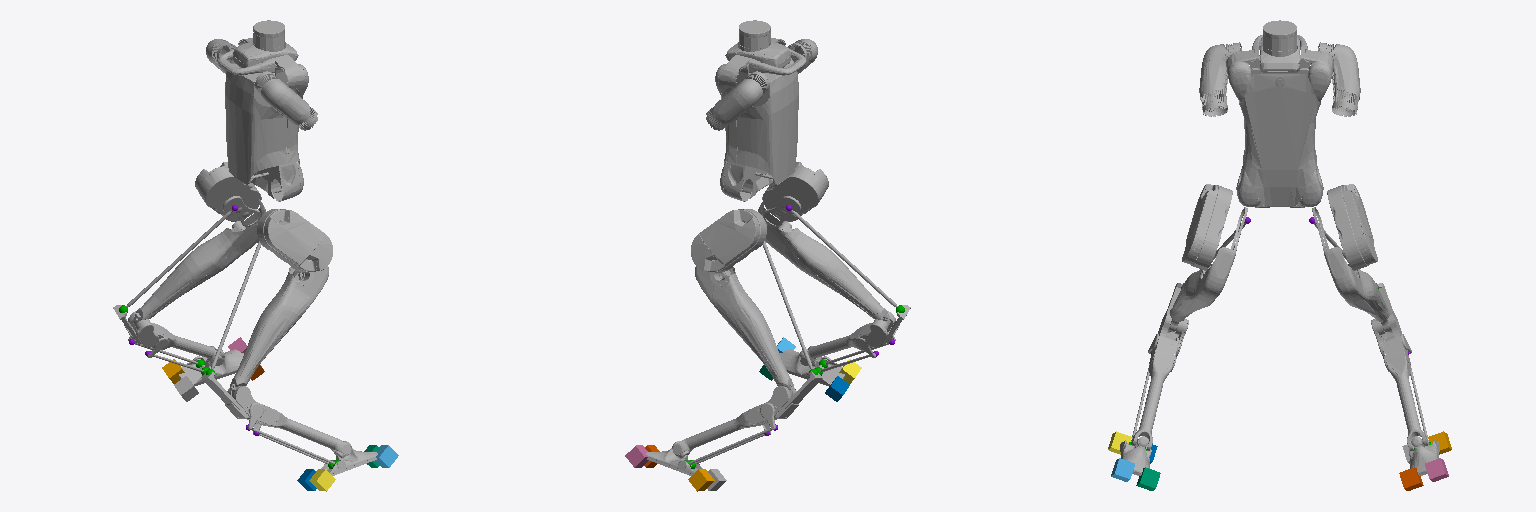
--- Facts derived from the render (not from the file) ---
Views: 3 orthographic renders of the robot side by side, from view 1: azimuth 30°, elevation 25°; view 2: azimuth 150°, elevation 25°; view 3: azimuth 270°, elevation 25°.
Robot: digit — 61 links, 60 joints (26 revolute, 34 fixed); root link torso; default pose: every joint at zero.
Links seen in each view (by area): view 1: torso, left_shin, right_shin, right_hip_pitch, left_hip_pitch, right_tarsus, right_shoulder_pitch, left_tarsus, right_waist_cap, left_toe_roll, right_shoulder_cap, right_toe_roll (+1 smaller); view 2: torso, right_shin, left_shin, left_hip_pitch, right_hip_pitch, left_tarsus, left_shoulder_pitch, right_tarsus, left_waist_cap, right_toe_roll, left_shoulder_cap, left_toe_roll (+1 smaller); view 3: torso, left_hip_pitch, right_hip_pitch, left_tarsus, right_tarsus, left_shin, right_shin, left_shoulder_pitch, right_shoulder_pitch, right_shoulder_cap, left_shoulder_cap, left_toe_roll (+3 smaller).
Link boxes in pixels (left/top/right/bottom): torso: left=217, top=20, right=302, bottom=193; left_shin: left=133, top=199, right=265, bottom=326; right_shin: left=230, top=266, right=328, bottom=396; right_hip_pitch: left=257, top=209, right=332, bottom=271; left_hip_pitch: left=195, top=162, right=261, bottom=226; right_tarsus: left=225, top=386, right=350, bottom=454; right_shoulder_pitch: left=254, top=71, right=317, bottom=130; left_tarsus: left=124, top=311, right=223, bottom=365; right_waist_cap: left=268, top=157, right=303, bottom=201; left_toe_roll: left=179, top=349, right=243, bottom=385; right_shoulder_cap: left=275, top=57, right=308, bottom=97; right_toe_roll: left=321, top=441, right=377, bottom=475; torso: left=721, top=20, right=806, bottom=193; right_shin: left=758, top=199, right=890, bottom=326; left_shin: left=695, top=266, right=793, bottom=396; left_hip_pitch: left=691, top=209, right=766, bottom=271; right_hip_pitch: left=762, top=162, right=828, bottom=226; left_tarsus: left=673, top=386, right=798, bottom=454; left_shoulder_pitch: left=706, top=71, right=769, bottom=130; right_tarsus: left=800, top=311, right=899, bottom=365; left_waist_cap: left=720, top=157, right=755, bottom=201; right_toe_roll: left=780, top=349, right=844, bottom=385; left_shoulder_cap: left=715, top=57, right=748, bottom=97; left_toe_roll: left=646, top=441, right=702, bottom=475; torso: left=1239, top=20, right=1320, bottom=207; left_hip_pitch: left=1312, top=184, right=1377, bottom=270; right_hip_pitch: left=1182, top=184, right=1247, bottom=270; left_tarsus: left=1371, top=312, right=1428, bottom=450; right_tarsus: left=1131, top=312, right=1188, bottom=450; left_shin: left=1324, top=247, right=1392, bottom=332; right_shin: left=1167, top=247, right=1235, bottom=332; left_shoulder_pitch: left=1318, top=42, right=1360, bottom=116; right_shoulder_pitch: left=1199, top=42, right=1241, bottom=116; right_shoulder_cap: left=1226, top=50, right=1254, bottom=102; left_shoulder_cap: left=1305, top=50, right=1333, bottom=102; left_toe_roll: left=1408, top=436, right=1439, bottom=475.
Bounding box of the posed robot: 0.5917 × 1.01 × 1.44 m (x, y, z).
Meshes: 19 distinct files referenced, 27 mesh visuals loaded (12 binary STL); not drawn: 14 (reference not matched to a file when rendering).

URDF robot description (digit):
<?xml version="1.0" encoding="utf-8"?>
<robot name="digit">

    <link name="torso">
        <inertial>
            <origin rpy="0 0 0" xyz="0.001637 0.0002 0.259547"/>
            <mass value="15.028392"/>
            <inertia ixx="0.376284" ixy="-8.8e-05" ixz="0.008378" iyy="0.342655" iyz="6.7e-05" izz="0.100648"/>
        </inertial>
        <visual>
            <origin rpy="0 0 0" xyz="0 0 0"/>
            <geometry>
                <mesh filename="package://digit_description//meshes_new/torso.stl"/>
            </geometry>

            <material name="LightGrey">
                <color rgba="0.7 0.7 0.7 1.0"/>
            </material>
        </visual>
        <collision>
            <origin rpy="0 0 0" xyz="0 0 0"/>
            <geometry>
                <mesh filename="package://digit_description//meshes_new/torso.stl"/>
            </geometry>
        </collision>
    </link>

    <joint name="left_waist_cap_joint" type="fixed">
        <origin rpy="-1.57079632679 1.57 1.57079632679" xyz="-0.001 0.09 0.0"/>
        <axis xyz="0 0 1"/>
        <parent link="torso"/>
        <child link="left_waist_cap"/>
        <limit effort="1.4" lower="-1.309" upper="1.309" velocity="12.5"/>
    </joint>

    <link name="left_waist_cap">
        <inertial>
            <origin rpy="0 0 0" xyz="9e-06 0.003158 0.023405"/>
            <mass value="0.535396"/>
            <inertia ixx="0.000704" ixy="-1.4e-05" ixz="1.2e-05" iyy="0.00075" iyz="-3.5e-05" izz="0.000298"/>
        </inertial>
        <visual>
            <origin rpy="0 0 0" xyz="0 0 0"/>
            <geometry>
                <mesh filename="package://digit_description//meshes_new/shoulder-roll-housing.stl" scale="1 -1 1"/>
            </geometry>
            <material name="LightGrey">
                <color rgba="0.7 0.7 0.7 1.0"/>
            </material>
        </visual>
        <collision>
            <origin rpy="0 0 0" xyz="0 0 0"/>
            <geometry>
                <mesh filename="package://digit_description//meshes_new/shoulder-roll-housing.stl" scale="1 -1 1"/>
            </geometry>
        </collision>
    </link>

    <joint name="left_hip_roll_joint" type="revolute">
        <origin rpy="1.57079632679 -1.1955506 -1.57079632679" xyz="-0.001 0.091 0"/>
        <axis xyz="0 0 1"/>
        <parent link="torso"/>
        <child link="left_hip_roll"/>
        <dynamics damping="1.0" friction="1.0"/>
        <limit effort="112" lower="-1.0472" upper="1.0472" velocity="12.15"/>
    </joint>
    <link name="left_hip_roll">
        <inertial>
            <origin rpy="0 0 0" xyz="-0.001967 0.000244 0.031435"/>
            <mass value="0.915088"/>
            <inertia ixx="0.001017" ixy="-3e-06" ixz="1.3e-05" iyy="0.001148" iyz="-4e-06" izz="0.000766"/>
        </inertial>
        <visual>
            <origin rpy="0 0 0" xyz="0 0 0"/>
            <geometry>
                <mesh filename="package://digit_description//meshes_new/hip-yaw-housing.stl"/>
            </geometry>

            <material name="LightGrey">
                <color rgba="0.7 0.7 0.7 1.0"/>
            </material>
            <material name="LightGrey">
                <color rgba="0.7 0.7 0.7 1.0"/>
            </material>
        </visual>
        <collision>
            <origin rpy="0 0 0" xyz="0 0 0"/>
            <geometry>
                <mesh filename="package://digit_description//meshes_new/hip-yaw-housing.stl"/>
            </geometry>
        </collision>
    </link>

    <joint name="left_hip_yaw_joint" type="revolute">
        <origin rpy="0 -1.57079632679 0" xyz="-0.0505 0 0.044"/>
        <axis xyz="0 0 1"/>
        <parent link="left_hip_roll"/>
        <child link="left_hip_yaw"/>
        <dynamics damping="1.0" friction="1.0"/>
        <limit effort="70" lower="-0.698132" upper="0.698132" velocity="12.15"/>
    </joint>

    <link name="left_hip_yaw">
        <inertial>
            <origin rpy="0 0 0" xyz="1e-05 -0.001945 0.042033"/>
            <mass value="0.818753"/>
            <inertia ixx="0.001627" ixy="-1e-06" ixz="2e-06" iyy="0.001929" iyz="5.3e-05" izz="0.00077"/>
        </inertial>
        <visual>
            <origin rpy="0 0 0" xyz="0 0 0"/>
            <geometry>
                <mesh filename="package://digit_description//meshes_new/hip-pitch-housing.stl"/>
            </geometry>

            <material name="LightGrey">
                <color rgba="0.7 0.7 0.7 1.0"/>
            </material>
        </visual>
        <collision>
            <origin rpy="0 0 0" xyz="0 0 0"/>
            <geometry>
                <mesh filename="package://digit_description//meshes_new/hip-pitch-housing.stl"/>
            </geometry>
        </collision>
    </link>

    <joint name="left_hip_pitch_joint" type="revolute">
        <origin rpy="-1.57079632679 -0.7853981 3.1415927" xyz="0 0.004 0.068"/>
        <axis xyz="0 0 -1"/>
        <parent link="left_hip_yaw"/>
        <child link="left_hip_pitch"/>
        <dynamics damping="1.0" friction="0.5"/>
        <limit effort="200" lower="-1.0472" upper="1.57079632679" velocity="8.5"/>
    </joint>

    <link name="left_hip_pitch">
        <inertial>
            <origin rpy="0 0 0" xyz="0.060537 0.000521 -0.038857"/>
            <mass value="6.244279"/>
            <inertia ixx="0.011533" ixy="-0.000171" ixz="0.000148" iyy="0.033345" iyz="0.000178" izz="0.033958"/>
        </inertial>
        <visual>
            <origin rpy="0 0 0" xyz="0 0 0"/>
            <geometry>
                <mesh filename="package://digit_description//meshes_new/hip-pitch.stl"/>
            </geometry>

            <material name="LightGrey">
                <color rgba="0.7 0.7 0.7 1.0"/>
            </material>
        </visual>
        <collision>
            <origin rpy="0 0 0" xyz="0 0 0"/>
            <geometry>
                <mesh filename="package://digit_description//meshes_new/hip-pitch.stl"/>
            </geometry>
        </collision>
    </link>

    <!-- <joint name="left_achillies_rod_joint1" type="revolute">
        <origin rpy="0.0087529 0.0708516 -1.435541" xyz="0 0 0.046"/>
        <axis xyz="0 1 0"/>
        <parent link="left_hip_pitch"/>
        <child link="left_achillies_rod_parent"/>
        <limit effort="12.5" lower="-1.5" upper="1.5" velocity="8.5085"/>
    </joint>

    <link name="left_achillies_rod_parent"/>

    <joint name="left_achillies_rod_joint2" type="revolute">
        <origin rpy="0 0 0" xyz="0 0 0"/>
        <axis xyz="0 0 1"/>
        <parent link="left_achillies_rod_parent"/>
        <child link="left_achillies_rod"/>
        <limit effort="12.5" lower="-1.5" upper="1.5" velocity="8.5085"/>
    </joint> -->

    <joint name="left_achillies_rod_joint" type="fixed">
        <origin rpy="0.0087529 0.0708516 -1.435541" xyz="0 0 0.046"/>
        <axis xyz="0 1 0"/>
        <parent link="left_hip_pitch"/>
        <child link="left_achillies_rod"/>
        <limit effort="12.5" lower="-1.5" upper="1.5" velocity="8.5085"/>
    </joint>

    <link name="left_achillies_rod">
        <inertial>
            <origin rpy="0 0 0" xyz="0.2506 0 0"/>
            <mass value="0.178148"/>
            <inertia ixx="3e-06" ixy="0" ixz="0" iyy="0.004501" iyz="0" izz="0.004501"/>
        </inertial>
        <visual>
            <origin rpy="0 0 0" xyz="0 0 0"/>
            <geometry>
                <mesh filename="package://digit_description//meshes_new/achilles-rod.stl"/>
            </geometry>

            <material name="LightGrey">
                <color rgba="0.7 0.7 0.7 1.0"/>
            </material>
        </visual>
        <collision>
            <origin rpy="0 0 0" xyz="0 0 0"/>
            <geometry>
                <mesh filename="package://digit_description//meshes_new/achilles-rod.stl"/>
            </geometry>
        </collision>
    </link>

    <joint name="left_knee_joint" type="revolute">
        <origin rpy="0 0 -1.57079632679" xyz="0.12 0 0.0045"/>
        <axis xyz="0 0 1"/>
        <parent link="left_hip_pitch"/>
        <child link="left_knee"/>
        <dynamics damping="1.0" friction="0.5"/>
        <limit effort="200" lower="-1.2392" upper="0.8727" velocity="8.5085"/>
    </joint>

    <link name="left_knee">
        <inertial>
            <origin rpy="0 0 0" xyz="0.045641 0.042154 0.001657"/>
            <mass value="1.227077"/>
            <inertia ixx="0.002643" ixy="-0.001832" ixz="6.6e-05" iyy="0.005098" iyz="4.5e-05" izz="0.007019"/>
        </inertial>
        <visual>
            <origin rpy="0 0 0" xyz="0 0 0"/>
            <geometry>
                <mesh filename="package://digit_description//meshes_new/knee.stl"/>
            </geometry>

            <material name="LightGrey">
                <color rgba="0.7 0.7 0.7 1.0"/>
            </material>
        </visual>
        <collision>
            <origin rpy="0 0 0" xyz="0 0 0"/>
            <geometry>
                <mesh filename="package://digit_description//meshes_new/knee.stl"/>
            </geometry>
        </collision>
    </link>

    <joint name="left_shin_joint" type="fixed">
        <origin rpy="0 0 0" xyz="0.060677 0.047406 0"/>
        <axis xyz="0 0 1"/>
        <parent link="left_knee"/>
        <child link="left_shin"/>
        <limit effort="0.001" lower="-0.35" upper="0.35" velocity="10"/>
    </joint>

    <link name="left_shin">
        <inertial>
            <origin rpy="0 0 0" xyz="0.174265 0.010265 0.00107"/>
            <mass value="0.895793"/>
            <inertia ixx="0.001128" ixy="0.001098" ixz="0.000196" iyy="0.022492" iyz="-3e-06" izz="0.022793"/>
        </inertial>
        <visual>
            <origin rpy="0 0 0" xyz="0 0 0"/>
            <geometry>
                <mesh filename="package://digit_description//meshes_new/shin.stl"/>
            </geometry>

            <material name="LightGrey">
                <color rgba="0.7 0.7 0.7 1.0"/>
            </material>
        </visual>
        <collision>
            <origin rpy="0 0 0" xyz="0 0 0"/>
            <geometry>
                <mesh filename="package://digit_description//meshes_new/shin.stl"/>
            </geometry>
        </collision>
    </link>

    <joint name="left_tarsus_joint" type="revolute">
        <origin rpy="0 0 1.7976891" xyz="0.434759 0.02 0"/>
        <axis xyz="0 0 1"/>
        <parent link="left_shin"/>
        <child link="left_tarsus"/>
        <dynamics damping="0.0" friction="0.0"/>
        <limit effort="0.001" lower="-0.8779" upper="1.2497" velocity="20"/>
    </joint>

    <link name="left_tarsus">
        <inertial>
            <origin rpy="0 0 0" xyz="0.100777 -0.029183 0.000678"/>
            <mass value="1.322865"/>
            <inertia ixx="0.000932" ixy="0.00061" ixz="0.000102" iyy="0.016409" iyz="9e-06" izz="0.016501"/>
        </inertial>
        <visual>
            <origin rpy="0 0 0" xyz="0 0 0"/>
            <geometry>
                <mesh filename="package://digit_description//meshes_new/tarsus.stl"/>
            </geometry>

            <material name="LightGrey">
                <color rgba="0.7 0.7 0.7 1.0"/>
            </material>
        </visual>
        <collision>
            <origin rpy="0 0 0" xyz="0 0 0"/>
            <geometry>
                <mesh filename="package://digit_description//meshes_new/tarsus.stl"/>
            </geometry>
        </collision>
    </link>

    <joint name="left_heel_spring_joint" type="fixed">
        <origin rpy="-0.0689073 -0.0370354 2.7207176" xyz="-0.01766 -0.029456 0.00104"/>
        <axis xyz="0 0 1"/>
        <parent link="left_tarsus"/>
        <child link="left_heel_spring"/>
        <limit effort="0.001" lower="-0.104719753333" upper="0.104719753333" velocity="11.5"/>
    </joint>

    <link name="left_heel_spring">
        <inertial>
            <origin rpy="0 0 0" xyz="0.049086 0.004739 -4.5e-05"/>
            <mass value="0.230018"/>
            <inertia ixx="5.5e-05" ixy="1.5e-05" ixz="1e-06" iyy="0.00074" iyz="0" izz="0.000701"/>
        </inertial>
        <visual>
            <origin rpy="0 0 0" xyz="0 0 0"/>
            <geometry>
                <mesh filename="package://digit_description//meshes_new/heel-spring.stl"/>
            </geometry>

            <material name="LightGrey">
                <color rgba="0.7 0.7 0.7 1.0"/>
            </material>
        </visual>
        <collision>
            <origin rpy="0 0 0" xyz="0 0 0"/>
            <geometry>
                <mesh filename="package://digit_description//meshes_new/heel-spring.stl"/>
            </geometry>
        </collision>
    </link>

    <joint name="left_toe_A_joint" type="revolute">
        <origin rpy="3.1415927 0 -1.6050048" xyz="0.059 -0.034 -0.0276"/>
        <axis xyz="0 0 1"/>
        <parent link="left_tarsus"/>
        <child link="left_toe_A"/>
        <dynamics damping="1.0" friction="1.0"/>
        <limit effort="45" lower="-0.912807183222" upper="1.2644910215" velocity="11.5"/>
    </joint>

    <link name="left_toe_A">
        <inertial>
            <origin rpy="0 0 0" xyz="0.005161 1e-06 -0.002248"/>
            <mass value="0.139557"/>
            <inertia ixx="2.9e-05" ixy="0" ixz="-4e-06" iyy="5.8e-05" iyz="0" izz="7.4e-05"/>
        </inertial>
        <visual>
            <origin rpy="0 0 0" xyz="0 0 0"/>
            <geometry>
                <mesh filename="package://digit_description//meshes_new/toe-output.stl"/>
            </geometry>

            <material name="LightGrey">
                <color rgba="0.7 0.7 0.7 1.0"/>
            </material>
        </visual>
        <collision>
            <origin rpy="0 0 0" xyz="0 0 0"/>
            <geometry>
                <mesh filename="package://digit_description//meshes_new/toe-output.stl"/>
            </geometry>
        </collision>
    </link>

    <!-- <joint name="left_toe_A_rod_parent_joint" type="revolute">
        <origin rpy="-0.0374899 0.0049742 -1.5964351" xyz="0.057 0 -0.008"/>
        <axis xyz="0 1 0"/>
        <parent link="left_toe_A"/>
        <child link="left_toe_A_rod_parent"/>
        <limit effort="0.9" lower="-3.785398163397" upper="3.785398163397" velocity="11.5"/>
    </joint>

    <link name="left_toe_A_rod_parent" />

    <joint name="left_toe_A_rod_joint" type="revolute">
        <origin rpy="0 0 0" xyz="0 0 0"/>
        <axis xyz="0 0 1"/>
        <parent link="left_toe_A_rod_parent"/>
        <child link="left_toe_A_rod"/>
        <limit effort="0.9" lower="-3.785398163397" upper="3.785398163397" velocity="11.5"/>
    </joint> -->

    <joint name="left_toe_A_rod_parent_joint" type="fixed">
        <origin rpy="-0.0374899 0.0049742 -1.5964351" xyz="0.057 0 -0.008"/>
        <axis xyz="0 1 0"/>
        <parent link="left_toe_A"/>
        <child link="left_toe_A_rod"/>
        <limit effort="0.9" lower="-3.785398163397" upper="3.785398163397" velocity="11.5"/>
    </joint>

    <link name="left_toe_A_rod">
        <inertial>
            <origin rpy="0 0 0" xyz="0.171071 0 0"/>
            <mass value="0.090983"/>
            <inertia ixx="1e-06" ixy="0" ixz="0" iyy="0.001182" iyz="0" izz="0.001182"/>
        </inertial>
        <visual>
            <origin rpy="0 0 0" xyz="0 0 0"/>
            <geometry>
                <mesh filename="package://digit_description//meshes_new/toe-A-rod.stl"/>
            </geometry>

            <material name="LightGrey">
                <color rgba="0.7 0.7 0.7 1.0"/>
            </material>
        </visual>
        <collision>
            <origin rpy="0 0 0" xyz="0 0 0"/>
            <geometry>
                <mesh filename="package://digit_description//meshes_new/toe-A-rod.stl"/>
            </geometry>
        </collision>
    </link>

    <joint name="left_toe_B_joint" type="revolute">
        <origin rpy="0 0 -1.6049813" xyz="0.111 -0.034 0.0276"/>
        <axis xyz="0 0 1"/>
        <parent link="left_tarsus"/>
        <child link="left_toe_B"/>
        <dynamics damping="1.0" friction="1.0"/>
        <limit effort="45" lower="-0.912807183222" upper="1.2644910215" velocity="11.5"/>
    </joint>

    <link name="left_toe_B">
        <inertial>
            <origin rpy="0 0 0" xyz="0.005161 1e-06 -0.002248"/>
            <mass value="0.139557"/>
            <inertia ixx="2.9e-05" ixy="0" ixz="-4e-06" iyy="5.8e-05" iyz="0" izz="7.4e-05"/>
        </inertial>
        <visual>
            <origin rpy="0 0 0" xyz="0 0 0"/>
            <geometry>
                <mesh filename="package://digit_description//meshes_new/toe-output.stl"/>
            </geometry>

            <material name="LightGrey">
                <color rgba="0.7 0.7 0.7 1.0"/>
            </material>
        </visual>
        <collision>
            <origin rpy="0 0 0" xyz="0 0 0"/>
            <geometry>
                <mesh filename="package://digit_description//meshes_new/toe-output.stl"/>
            </geometry>
        </collision>
    </link>

    <!-- <joint name="left_toe_B_rod_parent_joint" type="revolute">
        <origin rpy="-0.0536482 0.0051326 1.5948474" xyz="0.057 0 -0.008"/>
        <axis xyz="0 1 0"/>
        <parent link="left_toe_B"/>
        <child link="left_toe_B_rod_parent"/>
        <limit effort="0.9" lower="-3.785398163397" upper="3.785398163397" velocity="11.5"/>
    </joint>

    <link name="left_toe_B_rod_parent" />

    <joint name="left_toe_B_rod_joint" type="revolute">
        <origin rpy="0 0 0" xyz="0 0 0"/>
        <axis xyz="0 0 1"/>
        <parent link="left_toe_B_rod_parent"/>
        <child link="left_toe_B_rod"/>
        <limit effort="0.9" lower="-3.785398163397" upper="3.785398163397" velocity="11.5"/>
    </joint> -->

    <joint name="left_toe_B_rod_parent_joint" type="fixed">
        <origin rpy="-0.0536482 0.0051326 1.5948474" xyz="0.057 0 -0.008"/>
        <axis xyz="0 1 0"/>
        <parent link="left_toe_B"/>
        <child link="left_toe_B_rod"/>
        <limit effort="0.9" lower="-3.785398163397" upper="3.785398163397" velocity="11.5"/>
    </joint>

    <link name="left_toe_B_rod">
        <inertial>
            <origin rpy="0 0 0" xyz="0.142991 0 0"/>
            <mass value="0.079507"/>
            <inertia ixx="1e-06" ixy="0" ixz="0" iyy="0.000768" iyz="0" izz="0.000768"/>
        </inertial>
        <visual>
            <origin rpy="0 0 0" xyz="0 0 0"/>
            <geometry>
                <mesh filename="package://digit_description//meshes_new/toe-B-rod.stl"/>
            </geometry>

            <material name="LightGrey">
                <color rgba="0.7 0.7 0.7 1.0"/>
            </material>
        </visual>
        <collision>
            <origin rpy="0 0 0" xyz="0 0 0"/>
            <geometry>
                <mesh filename="package://digit_description//meshes_new/toe-B-rod.stl"/>
            </geometry>
        </collision>
    </link>

    <joint name="left_toe_pitch_joint" type="revolute">
        <origin rpy="0 0 1.1956" xyz="0.408 -0.04 0"/>
        <axis xyz="0 0 1"/>
        <parent link="left_tarsus"/>
        <child link="left_toe_pitch"/>
        <dynamics damping="0.0" friction="0.0"/>
        <limit effort="0.001" lower="-0.785398163397" upper="0.785398163397" velocity="11.5"/>
    </joint>

    <link name="left_toe_pitch">
        <inertial>
            <origin rpy="0 0 0" xyz="-0.000141 2e-06 3e-06"/>
            <mass value="0.043881"/>
            <inertia ixx="5e-06" ixy="0" ixz="0" iyy="8e-06" iyz="0" izz="5e-06"/>
        </inertial>
        <visual>
            <origin rpy="0 0 0" xyz="0 0 0"/>
            <geometry>
                <mesh filename="package://digit_description//meshes_new/toe-pitch.stl"/>
            </geometry>

            <material name="LightGrey">
                <color rgba="0.7 0.7 0.7 1.0"/>
            </material>
        </visual>
        <collision>
            <origin rpy="0 0 0" xyz="0 0 0"/>
            <geometry>
                <mesh filename="package://digit_description//meshes_new/toe-pitch.stl"/>
            </geometry>
        </collision>
    </link>

    <joint name="left_toe_roll_joint" type="revolute">
        <origin rpy="0 1.57079632679 0" xyz="0 0 0"/>
        <axis xyz="0 0 1"/>
        <parent link="left_toe_pitch"/>
        <child link="left_toe_roll"/>
        <dynamics damping="0.0" friction="0.0"/>
        <limit effort="0.001" lower="-0.6109" upper="0.6109" velocity="11.5"/>
    </joint>

    <link name="left_toe_roll">
        <inertial>
            <origin rpy="0 0 0" xyz="9e-06 -0.028084 -0.023204"/>
            <mass value="0.531283"/>
            <inertia ixx="0.00187" ixy="0" ixz="0" iyy="0.001616" iyz="0.000566" izz="0.000843"/>
        </inertial>
        <visual>
            <origin rpy="0 0 0" xyz="0 0 0"/>
            <geometry>
                <mesh filename="package://digit_description//meshes_new/toe-roll.stl"/>
            </geometry>

            <material name="LightGrey">
                <color rgba="0.7 0.7 0.7 1.0"/>
            </material>
        </visual>
        <collision>
            <origin rpy="0 0 0" xyz="0 0 0"/>
            <geometry>
                <mesh filename="package://digit_description//meshes_new/toe-roll.stl"/>
            </geometry>
        </collision>
    </link>

    <joint name="left_shoulder_cap_joint" type="fixed">
        <origin rpy="-1.57079632679 -1.3962633 1.57079632679" xyz="0.001 0.12 0.4"/>
        <axis xyz="0 0 1"/>
        <parent link="torso"/>
        <child link="left_shoulder_cap"/>
        <limit effort="1.4" lower="-1.309" upper="1.309" velocity="12.5"/>
    </joint>

    <link name="left_shoulder_cap">
        <inertial>
            <origin rpy="0 0 0" xyz="9e-06 -0.003158 0.023405"/>
            <mass value="0.535396"/>
            <inertia ixx="0.000704" ixy="1.4e-05" ixz="1.2e-05" iyy="0.00075" iyz="3.5e-05" izz="0.000298"/>
        </inertial>
        <visual>
            <origin rpy="0 0 0" xyz="0 0 0"/>
            <geometry>
                <mesh filename="package://digit_description//meshes_new/shoulder-roll-housing.stl"/>
            </geometry>

            <material name="LightGrey">
                <color rgba="0.7 0.7 0.7 1.0"/>
            </material>
        </visual>
        <collision>
            <origin rpy="0 0 0" xyz="0 0 0"/>
            <geometry>
                <mesh filename="package://digit_description//meshes_new/shoulder-roll-housing.stl"/>
            </geometry>
        </collision>
    </link>

    <joint name="left_shoulder_roll_joint" type="revolute">
        <origin rpy="-1.57079632679 -1.3962633 1.57079632679" xyz="-0.001 0.12 0.4"/>
        <axis xyz="0 0 1"/>
        <parent link="torso"/>
        <child link="left_shoulder_roll"/>
        <dynamics damping="2.0" friction="2.0"/>
        <limit effort="112" lower="-1.309" upper="1.309" velocity="12.5"/>
    </joint>

    <link name="left_shoulder_roll">
        <inertial>
            <origin rpy="0 0 0" xyz="9e-06 -0.003158 0.023405"/>
            <mass value="0.535396"/>
            <inertia ixx="0.000704" ixy="1.4e-05" ixz="1.2e-05" iyy="0.00075" iyz="3.5e-05" izz="0.000298"/>
        </inertial>
        <visual>
            <origin rpy="0 0 0" xyz="0 0 0"/>
            <geometry>
                <mesh filename="package://digit_description//meshes_new/arm-L1.stl"/>
            </geometry>

            <material name="LightGrey">
                <color rgba="0.7 0.7 0.7 1.0"/>
            </material>
        </visual>
        <collision>
            <origin rpy="0 0 0" xyz="0 0 0"/>
            <geometry>
                <mesh filename="package://digit_description//meshes_new/arm-L1.stl"/>
            </geometry>
        </collision>
    </link>

    <joint name="left_shoulder_pitch_joint" type="revolute">
        <origin rpy="1.57079632679 0.785398163397 0.0" xyz="-0.00017 -0.011055 0.0555"/>
        <axis xyz="0 0 -1"/>
        <parent link="left_shoulder_roll"/>
        <child link="left_shoulder_pitch"/>
        <dynamics damping="2.0" friction="2.0"/>
        <limit effort="112" lower="-2.5307" upper="2.5307" velocity="12.5"/>
    </joint>

    <link name="left_shoulder_pitch">
        <inertial>
            <origin rpy="0 0 0" xyz="-4.2e-05 -0.061882 -0.073788"/>
            <mass value="1.440357"/>
            <inertia ixx="0.006761" ixy="-6e-06" ixz="-3e-06" iyy="0.002087" iyz="-0.002046" izz="0.005778"/>
        </inertial>
        <visual>
            <origin rpy="0 0 0" xyz="0 0 0"/>
            <geometry>
                <mesh filename="package://digit_description//meshes_new/arm-L2.stl"/>
            </geometry>
            <material name="LightGrey">
                <color rgba="0.7 0.7 0.7 1.0"/>
            </material>
        </visual>
        <collision>
            <origin rpy="0 0 0" xyz="0 0 0"/>
            <geometry>
                <mesh filename="package://digit_description//meshes_new/arm-L2.stl"/>
            </geometry>
        </collision>
    </link>

    <joint name="shoulder_yaw_joint_left" type="revolute">
        <origin rpy="1.57079632679 0 0" xyz="0 -0.165 -0.1"/>
        <axis xyz="0 0 1"/>
        <parent link="left_shoulder_pitch"/>
        <child link="left_shoulder_yaw"/>
        <dynamics damping="1.0" friction="2.0"/>
        <limit effort="70" lower="-1.7453" upper="1.7453" velocity="10"/>
    </joint>

    <link name="left_shoulder_yaw">
        <inertial>
            <origin rpy="0 0 0" xyz="-3e-05 -0.001937 0.11407"/>
            <mass value="1.065387"/>
            <inertia ixx="0.006967" ixy="1e-06" ixz="-1e-06" iyy="0.007003" iyz="1.5e-05" izz="0.000673"/>
        </inertial>
        <visual>
            <origin rpy="0 0 0" xyz="0 0 0"/>
            <geometry>
                <mesh filename="package://digit_description//meshes_new/arm-L3.stl"/>
            </geometry>

            <material name="LightGrey">
                <color rgba="0.7 0.7 0.7 1.0"/>
            </material>
        </visual>
        <collision>
            <origin rpy="0 0 0" xyz="0 0 0"/>
            <geometry>
                <mesh filename="package://digit_description//meshes_new/arm-L3.stl"/>
            </geometry>
        </collision>
    </link>

    <joint name="left_elbow_joint" type="revolute">
        <origin rpy="1.57079632679 -0.3926991 0" xyz="0 -0.0385 0.185"/>
        <axis xyz="0 0 1"/>
        <parent link="left_shoulder_yaw"/>
        <child link="left_elbow"/>
        <dynamics damping="1.0" friction="2.0"/>
        <limit effort="112" lower="-1.3526" upper="1.3526" velocity="12.5"/>
    </joint>

    <link name="left_elbow">
        <inertial>
            <origin rpy="0 0 0" xyz="0.107996 -0.000521 -0.017765"/>
            <mass value="0.550582"/>
            <inertia ixx="0.000476" ixy="-2.9e-05" ixz="0.001403" iyy="0.009564" iyz="9e-06" izz="0.009437"/>
        </inertial>
        <visual>
            <origin rpy="0 0 0" xyz="0 0 0"/>
            <geometry>
                <mesh filename="package://digit_description//meshes_new/arm-L4.stl"/>
            </geometry>

            <material name="LightGrey">
                <color rgba="0.7 0.7 0.7 1.0"/>
            </material>
        </visual>
        <collision>
            <origin rpy="0 0 0" xyz="0 0 0"/>
            <geometry>
                <mesh filename="package://digit_description//meshes_new/arm-L4.stl"/>
            </geometry>
        </collision>
    </link>


    <joint name="right_waist_cap_joint" type="fixed">
        <origin rpy="1.57079632679 1.57 -1.57079632679" xyz="-0.001 -0.09 0.0"/>
        <axis xyz="0 0 1"/>
        <parent link="torso"/>
        <child link="right_waist_cap"/>
        <limit effort="1.4" lower="-1.309" upper="1.309" velocity="12.5"/>
    </joint>

    <link name="right_waist_cap">
        <inertial>
            <origin rpy="0 0 0" xyz="9e-06 -0.003158 0.023405"/>
            <mass value="0.535396"/>
            <inertia ixx="0.000704" ixy="1.4e-05" ixz="1.2e-05" iyy="0.00075" iyz="3.5e-05" izz="0.000298"/>
        </inertial>
        <visual>
            <origin rpy="0 0 0" xyz="0 0 0"/>
            <geometry>
                <mesh filename="package://digit_description//meshes_new/shoulder-roll-housing.stl"/>
            </geometry>
            <material name="LightGrey">
                <color rgba="0.7 0.7 0.7 1.0"/>
            </material>
        </visual>
        <collision>
            <origin rpy="0 0 0" xyz="0 0 0"/>
            <geometry>
                <mesh filename="package://digit_description//meshes_new/shoulder-roll-housing.stl"/>
            </geometry>
        </collision>
    </link>

    <joint name="right_hip_roll_joint" type="revolute">
        <origin rpy="-1.57079632679 -1.1955506 1.57079632679" xyz="-0.001 -0.091 0"/>
        <axis xyz="0 0 1"/>
        <parent link="torso"/>
        <child link="right_hip_roll"/>
        <dynamics damping="1.0" friction="1.0"/>
        <limit effort="112" lower="-1.0472" upper="1.0472" velocity="12.15"/>
    </joint>
    <link name="right_hip_roll">
        <inertial>
            <origin rpy="0 0 0" xyz="-0.001967 -0.000244 0.031435"/>
            <mass value="0.915088"/>
            <inertia ixx="0.001017" ixy="3e-06" ixz="1.3e-05" iyy="0.001148" iyz="4e-06" izz="0.000766"/>
        </inertial>
        <visual>
            <origin rpy="0 0 0" xyz="0 0 0"/>
            <geometry>
                <mesh filename="package://digit_description//meshes_new/hip-yaw-housing.stl" scale="1 -1 1"/>
            </geometry>

            <material name="LightGrey">
                <color rgba="0.7 0.7 0.7 1.0"/>
            </material>
            <material name="LightGrey">
                <color rgba="0.7 0.7 0.7 1.0"/>
            </material>
        </visual>
        <collision>
            <origin rpy="0 0 0" xyz="0 0 0"/>
            <geometry>
                <mesh filename="package://digit_description//meshes_new/hip-yaw-housing.stl" scale="1 -1 1"/>
            </geometry>
        </collision>
    </link>

    <joint name="right_hip_yaw_joint" type="revolute">
        <origin rpy="0 -1.57079632679 0" xyz="-0.0505 0 0.044"/>
        <axis xyz="0 0 1"/>
        <parent link="right_hip_roll"/>
        <child link="right_hip_yaw"/>
        <dynamics damping="1.0" friction="1.0"/>
        <limit effort="70" lower="-0.698132" upper="0.698132" velocity="12.15"/>
    </joint>

    <link name="right_hip_yaw">
        <inertial>
            <origin rpy="0 0 0" xyz="1e-05 0.001945 0.042033"/>
            <mass value="0.818753"/>
            <inertia ixx="0.001627" ixy="1e-06" ixz="2e-06" iyy="0.001929" iyz="-5.3e-05" izz="0.00077"/>
        </inertial>
        <visual>
            <origin rpy="0 0 0" xyz="0 0 0"/>
            <geometry>
                <mesh filename="package://digit_description//meshes_new/hip-pitch-housing.stl" scale="1 -1 1"/>
            </geometry>

            <material name="LightGrey">
                <color rgba="0.7 0.7 0.7 1.0"/>
            </material>
        </visual>
        <collision>
            <origin rpy="0 0 0" xyz="0 0 0"/>
            <geometry>
                <mesh filename="package://digit_description//meshes_new/hip-pitch-housing.stl" scale="1 -1 1"/>
            </geometry>
        </collision>
    </link>

    <joint name="right_hip_pitch_joint" type="revolute">
        <origin rpy="1.57079632679 -0.7853981 -3.1415927" xyz="0 -0.004 0.068"/>
        <axis xyz="0 0 -1"/>
        <parent link="right_hip_yaw"/>
        <child link="right_hip_pitch"/>
        <dynamics damping="1.0" friction="0.5"/>
        <limit effort="200" lower="-1.0472" upper="1.57079632679" velocity="8.5"/>
    </joint>

    <link name="right_hip_pitch">
        <inertial>
            <origin rpy="0 0 0" xyz="0.060537 -0.000521 -0.038857"/>
            <mass value="6.244279"/>
            <inertia ixx="0.011533" ixy="0.000171" ixz="0.000148" iyy="0.033345" iyz="-0.000178" izz="0.033958"/>
        </inertial>
        <visual>
            <origin rpy="0 0 0" xyz="0 0 0"/>
            <geometry>
                <mesh filename="package://digit_description//meshes_new/hip-pitch.stl" scale="1 -1 1"/>
            </geometry>

            <material name="LightGrey">
                <color rgba="0.7 0.7 0.7 1.0"/>
            </material>
        </visual>
        <collision>
            <origin rpy="0 0 0" xyz="0 0 0"/>
            <geometry>
                <mesh filename="package://digit_description//meshes_new/hip-pitch.stl" scale="1 -1 1"/>
            </geometry>
        </collision>
    </link>

    <!-- <joint name="right_achillies_rod_joint1" type="revolute">
        <origin rpy="-0.0087529 0.0708516 1.435541" xyz="0 0 0.046"/>
        <axis xyz="0 1 0"/>
        <parent link="right_hip_pitch"/>
        <child link="right_achillies_rod_parent"/>
        <limit effort="12.5" lower="-1.5" upper="1.5" velocity="8.5085"/>
    </joint>

    <link name="right_achillies_rod_parent"/>

    <joint name="right_achillies_rod_joint2" type="revolute">
        <origin rpy="0 0 0" xyz="0 0 0"/>
        <axis xyz="0 0 1"/>
        <parent link="right_achillies_rod_parent"/>
        <child link="right_achillies_rod"/>
        <limit effort="12.5" lower="-1.5" upper="1.5" velocity="8.5085"/>
    </joint> -->

    <joint name="right_achillies_rod_joint" type="fixed">
        <origin rpy="-0.0087529 0.0708516 1.435541" xyz="0 0 0.046"/>
        <axis xyz="0 1 0"/>
        <parent link="right_hip_pitch"/>
        <child link="right_achillies_rod"/>
        <limit effort="12.5" lower="-1.5" upper="1.5" velocity="8.5085"/>
    </joint>

    <link name="right_achillies_rod">
        <inertial>
            <origin rpy="0 0 0" xyz="0.2506 0 0"/>
            <mass value="0.178148"/>
            <inertia ixx="3e-06" ixy="0" ixz="0" iyy="0.004501" iyz="0" izz="0.004501"/>
        </inertial>
        <visual>
            <origin rpy="0 0 0" xyz="0 0 0"/>
            <geometry>
                <mesh filename="package://digit_description//meshes_new/achilles-rod.stl" scale="1 -1 1"/>
            </geometry>

            <material name="LightGrey">
                <color rgba="0.7 0.7 0.7 1.0"/>
            </material>
        </visual>
        <collision>
            <origin rpy="0 0 0" xyz="0 0 0"/>
            <geometry>
                <mesh filename="package://digit_description//meshes_new/achilles-rod.stl" scale="1 -1 1"/>
            </geometry>
        </collision>
    </link>

    <joint name="right_knee_joint" type="revolute">
        <origin rpy="0 0 1.57079632679" xyz="0.12 0 0.0045"/>
        <axis xyz="0 0 1"/>
        <parent link="right_hip_pitch"/>
        <child link="right_knee"/>
        <dynamics damping="1.0" friction="0.5"/>
        <limit effort="200" lower="-0.8727" upper="1.2392" velocity="8.5085"/>
    </joint>

    <link name="right_knee">
        <inertial>
            <origin rpy="0 0 0" xyz="0.045641 -0.042154 0.001657"/>
            <mass value="1.227077"/>
            <inertia ixx="0.002643" ixy="0.001832" ixz="6.6e-05" iyy="0.005098" iyz="-4.5e-05" izz="0.007019"/>
        </inertial>
        <visual>
            <origin rpy="0 0 0" xyz="0 0 0"/>
            <geometry>
                <mesh filename="package://digit_description//meshes_new/knee.stl" scale="1 -1 1"/>
            </geometry>

            <material name="LightGrey">
                <color rgba="0.7 0.7 0.7 1.0"/>
            </material>
        </visual>
        <collision>
            <origin rpy="0 0 0" xyz="0 0 0"/>
            <geometry>
                <mesh filename="package://digit_description//meshes_new/knee.stl" scale="1 -1 1"/>
            </geometry>
        </collision>
    </link>

    <joint name="right_shin_joint" type="fixed">
        <origin rpy="0 0 0" xyz="0.060677 -0.047406 0"/>
        <axis xyz="0 0 1"/>
        <parent link="right_knee"/>
        <child link="right_shin"/>
        <limit effort="0.001" lower="-0.35" upper="0.35" velocity="10"/>
    </joint>

    <link name="right_shin">
        <inertial>
            <origin rpy="0 0 0" xyz="0.174265 -0.010265 0.00107"/>
            <mass value="0.895793"/>
            <inertia ixx="0.001128" ixy="-0.001098" ixz="0.000196" iyy="0.022492" iyz="3e-06" izz="0.022793"/>
        </inertial>
        <visual>
            <origin rpy="0 0 0" xyz="0 0 0"/>
            <geometry>
                <mesh filename="package://digit_description//meshes_new/shin.stl" scale="1 -1 1"/>
            </geometry>

            <material name="LightGrey">
                <color rgba="0.7 0.7 0.7 1.0"/>
            </material>
        </visual>
        <collision>
            <origin rpy="0 0 0" xyz="0 0 0"/>
            <geometry>
                <mesh filename="package://digit_description//meshes_new/shin.stl" scale="1 -1 1"/>
            </geometry>
        </collision>
    </link>

    <joint name="right_tarsus_joint" type="revolute">
        <origin rpy="0 0 -1.7976891" xyz="0.434759 -0.02 0"/>
        <axis xyz="0 0 1"/>
        <parent link="right_shin"/>
        <child link="right_tarsus"/>
        <dynamics damping="0.0" friction="0.0"/>
        <limit effort="0.001" lower="-1.2497" upper="0.8779" velocity="20"/>
    </joint>

    <link name="right_tarsus">
        <inertial>
            <origin rpy="0 0 0" xyz="0.100777 0.029183 0.000678"/>
            <mass value="1.322865"/>
            <inertia ixx="0.000932" ixy="-0.00061" ixz="0.000102" iyy="0.016409" iyz="-9e-06" izz="0.016501"/>
        </inertial>
        <visual>
            <origin rpy="0 0 0" xyz="0 0 0"/>
            <geometry>
                <mesh filename="package://digit_description//meshes_new/tarsus.stl" scale="1 -1 1"/>
            </geometry>

            <material name="LightGrey">
                <color rgba="0.7 0.7 0.7 1.0"/>
            </material>
        </visual>
        <collision>
            <origin rpy="0 0 0" xyz="0 0 0"/>
            <geometry>
                <mesh filename="package://digit_description//meshes_new/tarsus.stl" scale="1 -1 1"/>
            </geometry>
        </collision>
    </link>

    <joint name="right_heel_spring_joint" type="fixed">
        <origin rpy="0.0689073 -0.0370354 -2.7207176" xyz="-0.01766 0.029456 0.00104"/>
        <axis xyz="0 0 1"/>
        <parent link="right_tarsus"/>
        <child link="right_heel_spring"/>
        <limit effort="0.001" lower="-0.104719753333" upper="0.104719753333" velocity="11.5"/>
    </joint>

    <link name="right_heel_spring">
        <inertial>
            <origin rpy="0 0 0" xyz="0.049086 -0.004739 -4.5e-05"/>
            <mass value="0.230018"/>
            <inertia ixx="5.5e-05" ixy="-1.5e-05" ixz="1e-06" iyy="0.00074" iyz="0" izz="0.000701"/>
        </inertial>
        <visual>
            <origin rpy="0 0 0" xyz="0 0 0"/>
            <geometry>
                <mesh filename="package://digit_description//meshes_new/heel-spring.stl" scale="1 -1 1"/>
            </geometry>

            <material name="LightGrey">
                <color rgba="0.7 0.7 0.7 1.0"/>
            </material>
        </visual>
        <collision>
            <origin rpy="0 0 0" xyz="0 0 0"/>
            <geometry>
                <mesh filename="package://digit_description//meshes_new/heel-spring.stl" scale="1 -1 1"/>
            </geometry>
        </collision>
    </link>

    <joint name="right_toe_A_joint" type="revolute">
        <origin rpy="-3.1415927 0 1.6050048" xyz="0.059 0.034 -0.0276"/>
        <axis xyz="0 0 1"/>
        <parent link="right_tarsus"/>
        <child link="right_toe_A"/>
        <dynamics damping="1.0" friction="1.0"/>
        <limit effort="45" lower="-1.2644910215" upper="0.912807183222" velocity="11.5"/>
    </joint>

    <link name="right_toe_A">
        <inertial>
            <origin rpy="0 0 0" xyz="0.005161 -1e-06 -0.002248"/>
            <mass value="0.139557"/>
            <inertia ixx="2.9e-05" ixy="0" ixz="-4e-06" iyy="5.8e-05" iyz="0" izz="7.4e-05"/>
        </inertial>
        <visual>
            <origin rpy="0 0 0" xyz="0 0 0"/>
            <geometry>
                <mesh filename="package://digit_description//meshes_new/toe-output.stl" scale="1 -1 1"/>
            </geometry>

            <material name="LightGrey">
                <color rgba="0.7 0.7 0.7 1.0"/>
            </material>
        </visual>
        <collision>
            <origin rpy="0 0 0" xyz="0 0 0"/>
            <geometry>
                <mesh filename="package://digit_description//meshes_new/toe-output.stl" scale="1 -1 1"/>
            </geometry>
        </collision>
    </link>

    <!-- <joint name="right_toe_A_rod_parent_joint" type="revolute">
        <origin rpy="0.0374899 0.0049742 1.5964351" xyz="0.057 0 -0.008"/>
        <axis xyz="0 1 0"/>
        <parent link="right_toe_A"/>
        <child link="right_toe_A_rod_parent"/>
        <limit effort="0.9" lower="-3.785398163397" upper="3.785398163397" velocity="11.5"/>
    </joint>

    <link name="right_toe_A_rod_parent" />

    <joint name="right_toe_A_rod_joint" type="revolute">
        <origin rpy="0 0 0" xyz="0 0 0"/>
        <axis xyz="0 0 1"/>
        <parent link="right_toe_A_rod_parent"/>
        <child link="right_toe_A_rod"/>
        <limit effort="0.9" lower="-3.785398163397" upper="3.785398163397" velocity="11.5"/>
    </joint> -->

    <joint name="right_toe_A_rod_parent_joint" type="fixed">
        <origin rpy="0.0374899 0.0049742 1.5964351" xyz="0.057 0 -0.008"/>
        <axis xyz="0 1 0"/>
        <parent link="right_toe_A"/>
        <child link="right_toe_A_rod"/>
        <limit effort="0.9" lower="-3.785398163397" upper="3.785398163397" velocity="11.5"/>
    </joint>


    <link name="right_toe_A_rod">
        <inertial>
            <origin rpy="0 0 0" xyz="0.171071 0 0"/>
            <mass value="0.090983"/>
            <inertia ixx="1e-06" ixy="0" ixz="0" iyy="0.001182" iyz="0" izz="0.001182"/>
        </inertial>
        <visual>
            <origin rpy="0 0 0" xyz="0 0 0"/>
            <geometry>
                <mesh filename="package://digit_description//meshes_new/toe-A-rod.stl" scale="1 -1 1"/>
            </geometry>

            <material name="LightGrey">
                <color rgba="0.7 0.7 0.7 1.0"/>
            </material>
        </visual>
        <collision>
            <origin rpy="0 0 0" xyz="0 0 0"/>
            <geometry>
                <mesh filename="package://digit_description//meshes_new/toe-A-rod.stl" scale="1 -1 1"/>
            </geometry>
        </collision>
    </link>

    <joint name="right_toe_B_joint" type="revolute">
        <origin rpy="0 0 1.6049813" xyz="0.111 0.034 0.0276"/>
        <axis xyz="0 0 1"/>
        <parent link="right_tarsus"/>
        <child link="right_toe_B"/>
        <dynamics damping="1.0" friction="1.0"/>
        <limit effort="45" lower="-0.912807183222" upper="1.2644910215" velocity="11.5"/>
    </joint>

    <link name="right_toe_B">
        <inertial>
            <origin rpy="0 0 0" xyz="0.005161 -1e-06 -0.002248"/>
            <mass value="0.139557"/>
            <inertia ixx="2.9e-05" ixy="0" ixz="-4e-06" iyy="5.8e-05" iyz="0" izz="7.4e-05"/>
        </inertial>
        <visual>
            <origin rpy="0 0 0" xyz="0 0 0"/>
            <geometry>
                <mesh filename="package://digit_description//meshes_new/toe-output.stl" scale="1 -1 1"/>
            </geometry>

            <material name="LightGrey">
                <color rgba="0.7 0.7 0.7 1.0"/>
            </material>
        </visual>
        <collision>
            <origin rpy="0 0 0" xyz="0 0 0"/>
            <geometry>
                <mesh filename="package://digit_description//meshes_new/toe-output.stl" scale="1 -1 1"/>
            </geometry>
        </collision>
    </link>

    <!-- <joint name="right_toe_B_rod_parent_joint" type="revolute">
        <origin rpy="0.0536482 0.0051326 -1.5948474" xyz="0.057 0 -0.008"/>
        <axis xyz="0 1 0"/>
        <parent link="right_toe_B"/>
        <child link="right_toe_B_rod_parent"/>
        <limit effort="0.9" lower="-3.785398163397" upper="3.785398163397" velocity="11.5"/>
    </joint>

    <link name="right_toe_B_rod_parent" />

    <joint name="right_toe_B_rod_joint" type="revolute">
        <origin rpy="0 0 0" xyz="0 0 0"/>
        <axis xyz="0 0 1"/>
        <parent link="right_toe_B_rod_parent"/>
        <child link="right_toe_B_rod"/>
        <limit effort="0.9" lower="-3.785398163397" upper="3.785398163397" velocity="11.5"/>
    </joint> -->

    <joint name="right_toe_B_rod_parent_joint" type="fixed">
        <origin rpy="0.0536482 0.0051326 -1.5948474" xyz="0.057 0 -0.008"/>
        <axis xyz="0 1 0"/>
        <parent link="right_toe_B"/>
        <child link="right_toe_B_rod"/>
        <limit effort="0.9" lower="-3.785398163397" upper="3.785398163397" velocity="11.5"/>
    </joint>

    <link name="right_toe_B_rod">
        <inertial>
            <origin rpy="0 0 0" xyz="0.142991 0 0"/>
            <mass value="0.079507"/>
            <inertia ixx="1e-06" ixy="0" ixz="0" iyy="0.000768" iyz="0" izz="0.000768"/>
        </inertial>
        <visual>
            <origin rpy="0 0 0" xyz="0 0 0"/>
            <geometry>
                <mesh filename="package://digit_description//meshes_new/toe-B-rod.stl" scale="1 -1 1"/>
            </geometry>

            <material name="LightGrey">
                <color rgba="0.7 0.7 0.7 1.0"/>
            </material>
        </visual>
        <collision>
            <origin rpy="0 0 0" xyz="0 0 0"/>
            <geometry>
                <mesh filename="package://digit_description//meshes_new/toe-B-rod.stl" scale="1 -1 1"/>
            </geometry>
        </collision>
    </link>

    <joint name="right_toe_pitch_joint" type="revolute">
        <origin rpy="0 0 -1.1956" xyz="0.408 0.04 0"/>
        <axis xyz="0 0 1"/>
        <parent link="right_tarsus"/>
        <child link="right_toe_pitch"/>
        <dynamics damping="0.0" friction="0.0"/>
        <limit effort="0.001" lower="-0.785398163397" upper="0.785398163397" velocity="11.5"/>
    </joint>

    <link name="right_toe_pitch">
        <inertial>
            <origin rpy="0 0 0" xyz="-0.000141 -2e-06 3e-06"/>
            <mass value="0.043881"/>
            <inertia ixx="5e-06" ixy="0" ixz="0" iyy="8e-06" iyz="0" izz="5e-06"/>
        </inertial>
        <visual>
            <origin rpy="0 0 0" xyz="0 0 0"/>
            <geometry>
                <mesh filename="package://digit_description//meshes_new/toe-pitch.stl" scale="1 -1 1"/>
            </geometry>

            <material name="LightGrey">
                <color rgba="0.7 0.7 0.7 1.0"/>
            </material>
        </visual>
        <collision>
            <origin rpy="0 0 0" xyz="0 0 0"/>
            <geometry>
                <mesh filename="package://digit_description//meshes_new/toe-pitch.stl" scale="1 -1 1"/>
            </geometry>
        </collision>
    </link>

    <joint name="right_toe_roll_joint" type="revolute">
        <origin rpy="0 1.57079632679 0" xyz="0 0 0"/>
        <axis xyz="0 0 1"/>
        <parent link="right_toe_pitch"/>
        <child link="right_toe_roll"/>
        <dynamics damping="0.0" friction="0.0"/>
        <limit effort="0.0" lower="-0.6109" upper="0.6109" velocity="11.5"/>
    </joint>

    <link name="right_toe_roll">
        <inertial>
            <origin rpy="0 0 0" xyz="9e-06 0.028084 -0.023204"/>
            <mass value="0.531283"/>
            <inertia ixx="0.00187" ixy="0" ixz="0" iyy="0.001616" iyz="-0.000566" izz="0.000843"/>
        </inertial>
        <visual>
            <origin rpy="0 0 0" xyz="0 0 0"/>
            <geometry>
                <mesh filename="package://digit_description//meshes_new/toe-roll.stl" scale="1 -1 1"/>
            </geometry>

            <material name="LightGrey">
                <color rgba="0.7 0.7 0.7 1.0"/>
            </material>
        </visual>
        <collision>
            <origin rpy="0 0 0" xyz="0 0 0"/>
            <geometry>
                <mesh filename="package://digit_description//meshes_new/toe-roll.stl" scale="1 -1 1"/>
            </geometry>
        </collision>
    </link>

    <joint name="right_shoulder_cap_joint" type="fixed">
        <origin rpy="1.57079632679 -1.3962633 -1.57079632679" xyz="0.001 -0.12 0.4"/>
        <axis xyz="0 0 1"/>
        <parent link="torso"/>
        <child link="right_shoulder_cap"/>
        <limit effort="1.4" lower="-1.309" upper="1.309" velocity="12.5"/>
    </joint>

    <link name="right_shoulder_cap">
        <inertial>
            <origin rpy="0 0 0" xyz="9e-06 0.003158 0.023405"/>
            <mass value="0.535396"/>
            <inertia ixx="0.000704" ixy="-1.4e-05" ixz="1.2e-05" iyy="0.00075" iyz="-3.5e-05" izz="0.000298"/>
        </inertial>
        <visual>
            <origin rpy="0 0 0" xyz="0 0 0"/>
            <geometry>
                <mesh filename="package://digit_description//meshes_new/shoulder-roll-housing.stl" scale="1 -1 1"/>
            </geometry>

            <material name="LightGrey">
                <color rgba="0.7 0.7 0.7 1.0"/>
            </material>
        </visual>
        <collision>
            <origin rpy="0 0 0" xyz="0 0 0"/>
            <geometry>
                <mesh filename="package://digit_description//meshes_new/shoulder-roll-housing.stl" scale="1 -1 1"/>
            </geometry>
        </collision>
    </link>

    <joint name="right_shoulder_roll_joint" type="revolute">
        <origin rpy="1.57079632679 -1.3962633 -1.57079632679" xyz="-0.001 -0.12 0.4"/>
        <axis xyz="0 0 1"/>
        <parent link="torso"/>
        <child link="right_shoulder_roll"/>
        <dynamics damping="2.0" friction="2.0"/>
        <limit effort="112" lower="-1.309" upper="1.309" velocity="12.5"/>
    </joint>

    <link name="right_shoulder_roll">
        <inertial>
            <origin rpy="0 0 0" xyz="9e-06 -0.003158 0.023405"/>
            <mass value="0.535396"/>
            <inertia ixx="0.000704" ixy="-1.4e-05" ixz="1.2e-05" iyy="0.00075" iyz="-3.5e-05" izz="0.000298"/>
        </inertial>
        <visual>
            <origin rpy="0 0 0" xyz="0 0 0"/>
            <geometry>
                <mesh filename="package://digit_description//meshes_new/arm-L1.stl" scale="1 -1 1"/>
            </geometry>

            <material name="LightGrey">
                <color rgba="0.7 0.7 0.7 1.0"/>
            </material>
        </visual>
        <collision>
            <origin rpy="0 0 0" xyz="0 0 0"/>
            <geometry>
                <mesh filename="package://digit_description//meshes_new/arm-L1.stl" scale="1 -1 1"/>
            </geometry>
        </collision>
    </link>

    <joint name="right_shoulder_pitch_joint" type="revolute">
        <origin rpy="-1.57079632679 0.785398163397 0.0" xyz="-0.00017 0.011055 0.0555"/>
        <axis xyz="0 0 -1"/>
        <parent link="right_shoulder_roll"/>
        <child link="right_shoulder_pitch"/>
        <dynamics damping="2.0" friction="2.0"/>
        <limit effort="112" lower="-2.5307" upper="2.5307" velocity="12.5"/>
    </joint>

    <link name="right_shoulder_pitch">
        <inertial>
            <origin rpy="0 0 0" xyz="-4.2e-05 0.061882 -0.073788"/>
            <mass value="1.440357"/>
            <inertia ixx="0.006761" ixy="6e-06" ixz="-3e-06" iyy="0.002087" iyz="0.002046" izz="0.005778"/>
        </inertial>
        <visual>
            <origin rpy="0 0 0" xyz="0 0 0"/>
            <geometry>
                <mesh filename="package://digit_description//meshes_new/arm-L2.stl" scale="1 -1 1"/>
            </geometry>
            <material name="LightGrey">
                <color rgba="0.7 0.7 0.7 1.0"/>
            </material>
        </visual>
        <collision>
            <origin rpy="0 0 0" xyz="0 0 0"/>
            <geometry>
                <mesh filename="package://digit_description//meshes_new/arm-L2.stl" scale="1 -1 1"/>
            </geometry>
        </collision>
    </link>

    <joint name="shoulder_yaw_joint_right" type="revolute">
        <origin rpy="-1.57079632679 0 0" xyz="0 0.165 -0.1"/>
        <axis xyz="0 0 1"/>
        <parent link="right_shoulder_pitch"/>
        <child link="right_shoulder_yaw"/>
        <dynamics damping="1.0" friction="2.0"/>
        <limit effort="70" lower="-1.7453" upper="1.7453" velocity="10"/>
    </joint>

    <link name="right_shoulder_yaw">
        <inertial>
            <origin rpy="0 0 0" xyz="-3e-05 -0.001937 0.11407"/>
            <mass value="1.065387"/>
            <inertia ixx="0.006967" ixy="-1e-06" ixz="-1e-06" iyy="0.007003" iyz="-1.5e-05" izz="0.000673"/>
        </inertial>
        <visual>
            <origin rpy="0 0 0" xyz="0 0 0"/>
            <geometry>
                <mesh filename="package://digit_description//meshes_new/arm-L3.stl" scale="1 -1 1"/>
            </geometry>

            <material name="LightGrey">
                <color rgba="0.7 0.7 0.7 1.0"/>
            </material>
        </visual>
        <collision>
            <origin rpy="0 0 0" xyz="0 0 0"/>
            <geometry>
                <mesh filename="package://digit_description//meshes_new/arm-L3.stl" scale="1 -1 1"/>
            </geometry>
        </collision>
    </link>

    <joint name="right_elbow_joint" type="revolute">
        <origin rpy="-1.57079632679 -0.3926991 0" xyz="0 0.0385 0.185"/>
        <axis xyz="0 0 1"/>
        <parent link="right_shoulder_yaw"/>
        <child link="right_elbow"/>
        <dynamics damping="1.0" friction="2.0"/>
        <limit effort="112" lower="-1.3526" upper="1.3526" velocity="12.5"/>
    </joint>

    <link name="right_elbow">
        <inertial>
            <origin rpy="0 0 0" xyz="0.107996 0.000521 -0.017765"/>
            <mass value="0.550582"/>
            <inertia ixx="0.000476" ixy="2.9e-05" ixz="0.001403" iyy="0.009564" iyz="-9e-06" izz="0.009437"/>
        </inertial>
        <visual>
            <origin rpy="0 0 0" xyz="0 0 0"/>
            <geometry>
                <mesh filename="package://digit_description//meshes_new/arm-L4.stl" scale="1 -1 1"/>
            </geometry>

            <material name="LightGrey">
                <color rgba="0.7 0.7 0.7 1.0"/>
            </material>
        </visual>
        <collision>
            <origin rpy="0 0 0" xyz="0 0 0"/>
            <geometry>
                <mesh filename="package://digit_description//meshes_new/arm-L4.stl" scale="1 -1 1"/>
            </geometry>
        </collision>
    </link>

    <joint name="cp_left_achillies_rod_joint" type="fixed">
        <origin rpy="0 0 0" xyz="0 0 0"/>
        <axis xyz="0 0 1"/>
        <parent link="left_achillies_rod"/>
        <child link="cp_left_achillies_rod"/>
    </joint>

    <link name="cp_left_achillies_rod">
        <visual>
            <origin rpy="0 0 0" xyz="0 0 0"/>
            <geometry>
                <sphere radius="0.010"/>
            </geometry>
            <material name="LightPurple">
                <color rgba="0.6 0.1 0.9 0.7"/>
            </material>
        </visual>
    </link>

    <joint name="cp_left_heel_spring_joint" type="fixed">
        <origin rpy="0 0 0" xyz="0.113789 -0.011056 0"/>
        <axis xyz="0 0 1"/>
        <parent link="left_heel_spring"/>
        <child link="cp_left_heel_spring"/>
    </joint>

    <link name="cp_left_heel_spring">
        <visual>
            <origin rpy="0 0 0" xyz="0 0 0"/>
            <geometry>
                <sphere radius="0.015"/>
            </geometry>
            <material name="LightGreen">
                <color rgba="0.0 0.7 0.0 0.7"/>
            </material>
        </visual>
    </link>

    <joint name="cp_right_achillies_rod_joint" type="fixed">
        <origin rpy="0 0 0" xyz="0 0 0"/>
        <axis xyz="0 0 1"/>
        <parent link="right_achillies_rod"/>
        <child link="cp_right_achillies_rod"/>
    </joint>

    <link name="cp_right_achillies_rod">
        <visual>
            <origin rpy="0 0 0" xyz="0 0 0"/>
            <geometry>
                <sphere radius="0.010"/>
            </geometry>
            <material name="LightPurple">
                <color rgba="0.6 0.1 0.9 0.7"/>
            </material>
        </visual>
    </link>

    <joint name="cp_right_heel_spring_joint" type="fixed">
        <origin rpy="0 0 0" xyz="0.113789 0.011056 0"/>
        <axis xyz="0 0 1"/>
        <parent link="right_heel_spring"/>
        <child link="cp_right_heel_spring"/>
    </joint>

    <link name="cp_right_heel_spring">
        <visual>
            <origin rpy="0 0 0" xyz="0 0 0"/>
            <geometry>
                <sphere radius="0.015"/>
            </geometry>
            <material name="LightGreen">
                <color rgba="0.0 0.7 0.0 0.7"/>
            </material>
        </visual>
    </link>

    <joint name="cp_left_toe_A_rod_joint" type="fixed">
        <origin rpy="0 0 0" xyz="0 0 0"/>
        <axis xyz="0 0 1"/>
        <parent link="left_toe_A_rod"/>
        <child link="cp_left_toe_A_rod"/>
    </joint>

    <link name="cp_left_toe_A_rod">
        <visual>
            <origin rpy="0 0 0" xyz="0 0 0"/>
            <geometry>
                <sphere radius="0.010"/>
            </geometry>
            <material name="LightPurple">
                <color rgba="0.6 0.1 0.9 0.7"/>
            </material>
        </visual>
    </link>

    <joint name="cp_left_toe_roll_A_joint" type="fixed">
        <origin rpy="0 0 0" xyz="0.0179 -0.009551 -0.054164"/>
        <axis xyz="0 0 1"/>
        <parent link="left_toe_roll"/>
        <child link="cp_left_toe_roll_A"/>
    </joint>

    <link name="cp_left_toe_roll_A">
        <visual>
            <origin rpy="0 0 0" xyz="0 0 0"/>
            <geometry>
                <sphere radius="0.015"/>
            </geometry>
            <material name="LightGreen">
                <color rgba="0.0 0.7 0.0 0.7"/>
            </material>
        </visual>
    </link>

    <joint name="cp_left_toe_B_rod_joint" type="fixed">
        <origin rpy="0 0 0" xyz="0 0 0"/>
        <axis xyz="0 0 1"/>
        <parent link="left_toe_B_rod"/>
        <child link="cp_left_toe_B_rod"/>
    </joint>

    <link name="cp_left_toe_B_rod">
        <visual>
            <origin rpy="0 0 0" xyz="0 0 0"/>
            <geometry>
                <sphere radius="0.010"/>
            </geometry>
            <material name="LightPurple">
                <color rgba="0.6 0.1 0.9 0.7"/>
            </material>
        </visual>
    </link>

    <joint name="cp_left_toe_roll_B_joint" type="fixed">
        <origin rpy="0 0 0" xyz="-0.0181 -0.009551 -0.054164"/>
        <axis xyz="0 0 1"/>
        <parent link="left_toe_roll"/>
        <child link="cp_left_toe_roll_B"/>
    </joint>

    <link name="cp_left_toe_roll_B">
        <visual>
            <origin rpy="0 0 0" xyz="0 0 0"/>
            <geometry>
                <sphere radius="0.015"/>
            </geometry>
            <material name="LightGreen">
                <color rgba="0.0 0.7 0.0 0.7"/>
            </material>
        </visual>
    </link>

    <joint name="cp_right_toe_A_rod_joint" type="fixed">
        <origin rpy="0 0 0" xyz="0 0 0"/>
        <axis xyz="0 0 1"/>
        <parent link="right_toe_A_rod"/>
        <child link="cp_right_toe_A_rod"/>
    </joint>

    <link name="cp_right_toe_A_rod">
        <visual>
            <origin rpy="0 0 0" xyz="0 0 0"/>
            <geometry>
                <sphere radius="0.010"/>
            </geometry>
            <material name="LightPurple">
                <color rgba="0.6 0.1 0.9 0.7"/>
            </material>
        </visual>
    </link>

    <joint name="cp_right_toe_roll_A_joint" type="fixed">
        <origin rpy="0 0 0" xyz="0.0179 0.009551 -0.054164"/>
        <axis xyz="0 0 1"/>
        <parent link="right_toe_roll"/>
        <child link="cp_right_toe_roll_A"/>
    </joint>

    <link name="cp_right_toe_roll_A">
        <visual>
            <origin rpy="0 0 0" xyz="0 0 0"/>
            <geometry>
                <sphere radius="0.015"/>
            </geometry>
            <material name="LightGreen">
                <color rgba="0.0 0.7 0.0 0.7"/>
            </material>
        </visual>
    </link>

    <joint name="cp_right_toe_B_rod_joint" type="fixed">
        <origin rpy="0 0 0" xyz="0 0 0"/>
        <axis xyz="0 0 1"/>
        <parent link="right_toe_B_rod"/>
        <child link="cp_right_toe_B_rod"/>
    </joint>

    <link name="cp_right_toe_B_rod">
        <visual>
            <origin rpy="0 0 0" xyz="0 0 0"/>
            <geometry>
                <sphere radius="0.010"/>
            </geometry>
            <material name="LightPurple">
                <color rgba="0.6 0.1 0.9 0.7"/>
            </material>
        </visual>
    </link>

    <joint name="cp_right_toe_roll_B_joint" type="fixed">
        <origin rpy="0 0 0" xyz="-0.0181 0.009551 -0.054164"/>
        <axis xyz="0 0 1"/>
        <parent link="right_toe_roll"/>
        <child link="cp_right_toe_roll_B"/>
    </joint>

    <link name="cp_right_toe_roll_B">
        <visual>
            <origin rpy="0 0 0" xyz="0 0 0"/>
            <geometry>
                <sphere radius="0.015"/>
            </geometry>
            <material name="LightGreen">
                <color rgba="0.0 0.7 0.0 0.7"/>
            </material>
        </visual>
    </link>

    <link name="contact1">
        <visual>
            <origin rpy="0 0 0" xyz="0 0 0"/>
            <geometry>
                <box size="0.05 0.05 0.05" rgba="0 0 1"/>
            </geometry>
        </visual>
    </link>
    <link name="contact2">
        <visual>
            <origin rpy="0 0 0" xyz="0 0 0"/>
            <geometry>
                <box size="0.05 0.05 0.05" rgba="1 1 0"/>
            </geometry>
        </visual>
    </link>
    <link name="contact3">
        <visual>
            <origin rpy="0 0 0" xyz="0 0 0"/>
            <geometry>
                <box size="0.05 0.05 0.05" rgba="1 0 0"/>
            </geometry>
        </visual>
    </link>
    <link name="contact4">
        <visual>
            <origin rpy="0 0 0" xyz="0 0 0"/>
            <geometry>
                <box size="0.05 0.05 0.05" rgba="0 1 0"/>
            </geometry>
        </visual>
    </link>
    <link name="contact5">
        <visual>
            <origin rpy="0 0 0" xyz="0 0 0"/>
            <geometry>
                <box size="0.05 0.05 0.05" rgba="0 0 1"/>
            </geometry>
        </visual>
    </link>
    <link name="contact6">
        <visual>
            <origin rpy="0 0 0" xyz="0 0 0"/>
            <geometry>
                <box size="0.05 0.05 0.05" rgba="0 0 1"/>
            </geometry>
        </visual>
    </link>
    <link name="contact7">
        <visual>
            <origin rpy="0 0 0" xyz="0 0 0"/>
            <geometry>
                <box size="0.05 0.05 0.05" rgba="0 0 1"/>
            </geometry>
        </visual>
    </link>
    <link name="contact8">
        <visual>
            <origin rpy="0 0 0" xyz="0 0 0"/>
            <geometry>
                <box size="0.05 0.05 0.05" rgba="0 0 1"/>
            </geometry>
        </visual>
    </link>

    <joint name="contact1_joint" type="fixed">
        <origin rpy="0 0 0" xyz="-0.04000014 -0.11085709 0.07003817"/>
        <parent link="left_toe_roll"/>
        <child link="contact1"/>
    </joint>
    <joint name="contact2_joint" type="fixed">
        <origin rpy="0 0 0" xyz="0.03999983 -0.11082681 0.07005585"/>
        <parent link="left_toe_roll"/>
        <child link="contact2"/>
    </joint>
    <joint name="contact3_joint" type="fixed">
        <origin rpy="0 0 0" xyz="-0.04000029 0.00799069 -0.13385178"/>
        <parent link="left_toe_roll"/>
        <child link="contact3"/>
    </joint>
    <joint name="contact4_joint" type="fixed">
        <origin rpy="0 0 0" xyz="0.03999968 0.00802097 -0.13383410"/>
        <parent link="left_toe_roll"/>
        <child link="contact4"/>
    </joint>
    <joint name="contact5_joint" type="fixed">
        <origin rpy="0 0 0" xyz="0.03999945 0.11063009 0.07017034"/>
        <parent link="right_toe_roll"/>
        <child link="contact5"/>
    </joint>
    <joint name="contact6_joint" type="fixed">
        <origin rpy="0 0 0" xyz="-0.04000014 0.11085020 0.07004217"/>
        <parent link="right_toe_roll"/>
        <child link="contact6"/>
    </joint>
    <joint name="contact7_joint" type="fixed">
        <origin rpy="0 0 0" xyz="0.03999968 -0.00801787 -0.13383595"/>
        <parent link="right_toe_roll"/>
        <child link="contact7"/>
    </joint>
    <joint name="contact8_joint" type="fixed">
        <origin rpy="0 0 0" xyz="-0.04000029 -0.00798741 -0.13385373"/>
        <parent link="right_toe_roll"/>
        <child link="contact8"/>
    </joint>

</robot>
